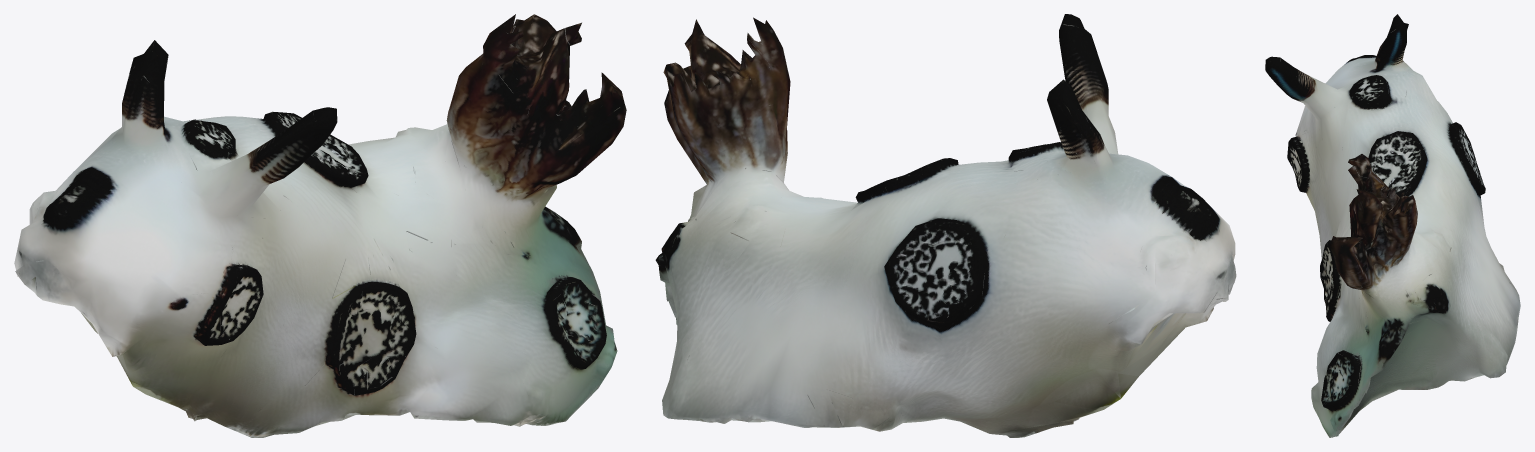
File: asset.gltf
3 views of the same model, side by side, from view 1: azimuth 30°, elevation 25°; view 2: azimuth 150°, elevation 25°; view 3: azimuth 270°, elevation 25° (orthographic). The views are drawn at different scales.
Visible parts, largest first — view 1: Meshy_Dotted Snow Puff_Mesh1.0; view 2: Meshy_Dotted Snow Puff_Mesh1.0; view 3: Meshy_Dotted Snow Puff_Mesh1.0.
Part boxes in pixels (<box>): Meshy_Dotted Snow Puff_Mesh1.0: <box>14,14,626,437</box>; Meshy_Dotted Snow Puff_Mesh1.0: <box>655,14,1236,437</box>; Meshy_Dotted Snow Puff_Mesh1.0: <box>1265,14,1520,437</box>.
Bounding box in the file's own units: 1.9 × 1.36 × 1.04.
1 material, 1 textured.
